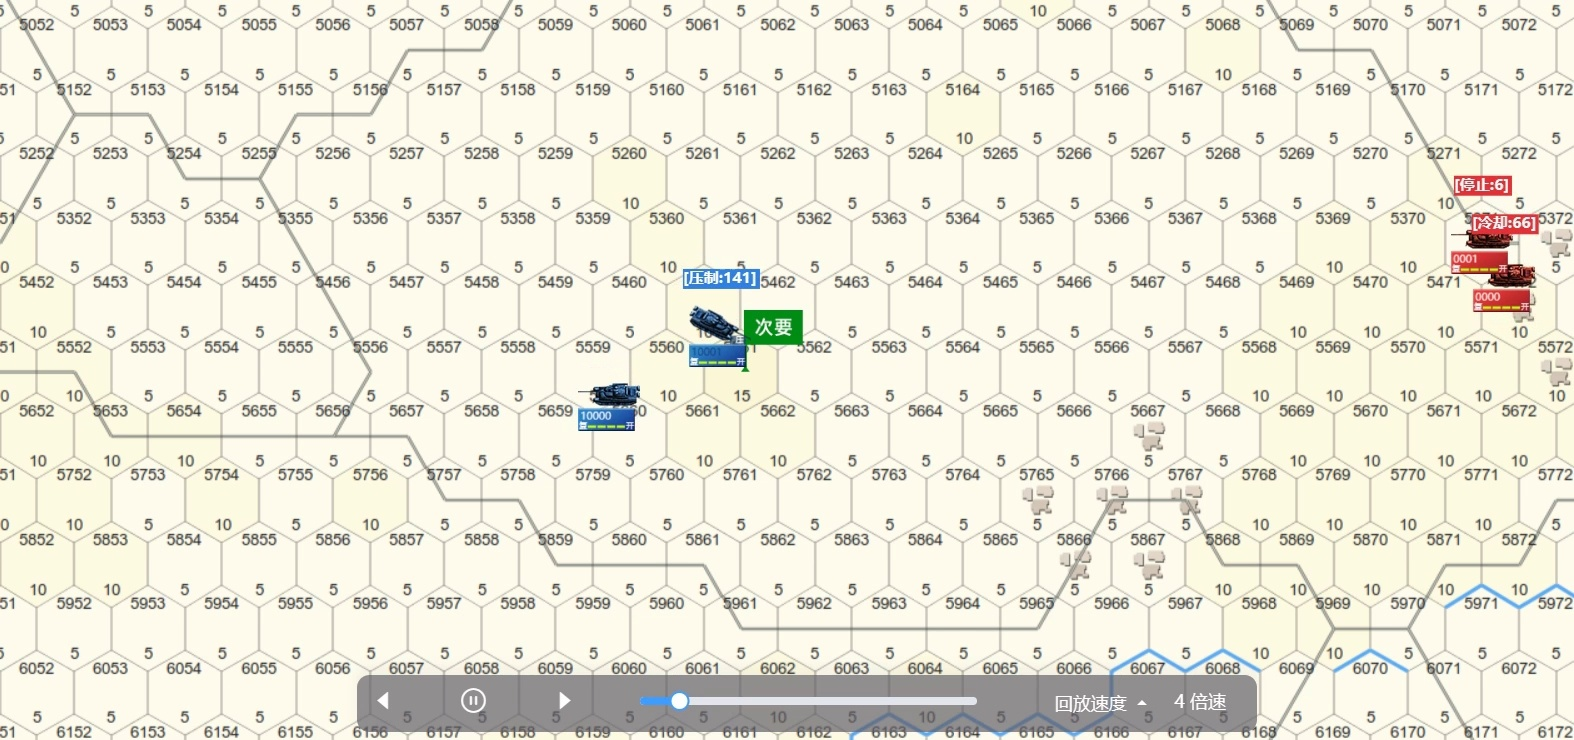blue_tank: (683, 301, 756, 369), (578, 380, 645, 434)
red_tank: (1449, 227, 1530, 278), (1470, 265, 1531, 318)
